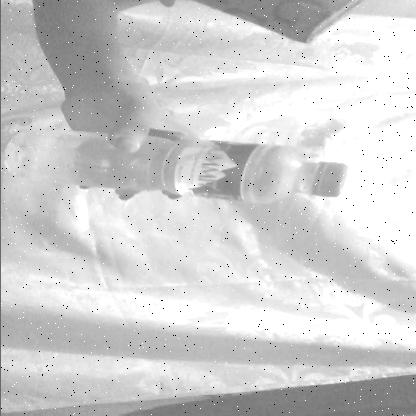Plastic Bottle: (11, 116, 371, 214)
